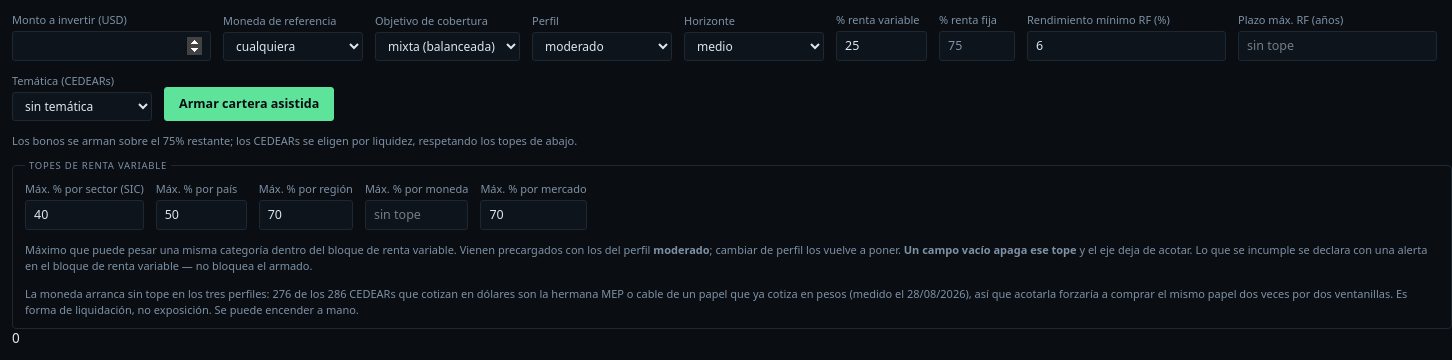
los topes de renta variable › cambiar de perfil los vuelve a poner, igual que con el % de renta variable
The width and height of the screenshot is (1452, 360).
Select "conservador" in the dropdown labelled "Perfil" at (602, 47), box [532, 32, 672, 61]
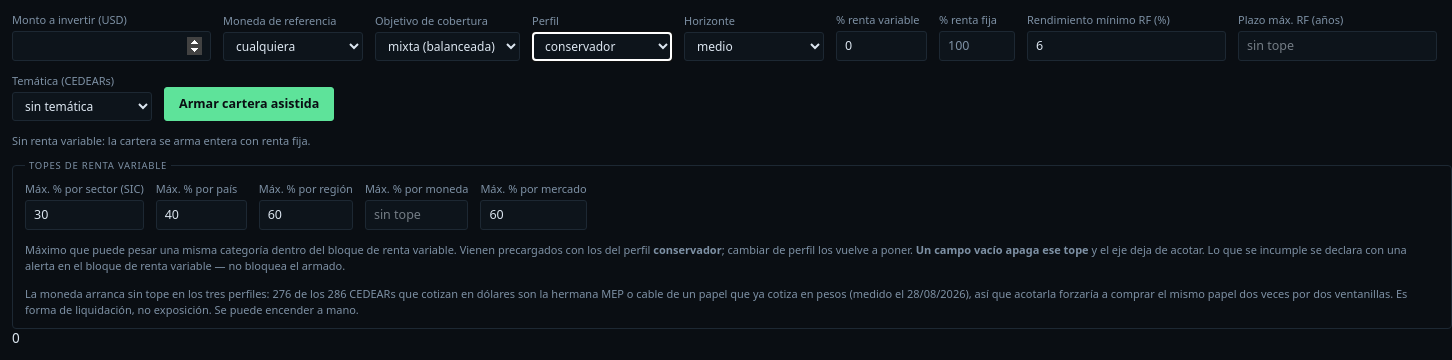
Expected: the number field labelled "Máx. % por sector (SIC)" holds "30", [25, 200, 144, 230]
Select "agresivo" in the dropdown labelled "Perfil" at (602, 47), box [532, 32, 672, 61]
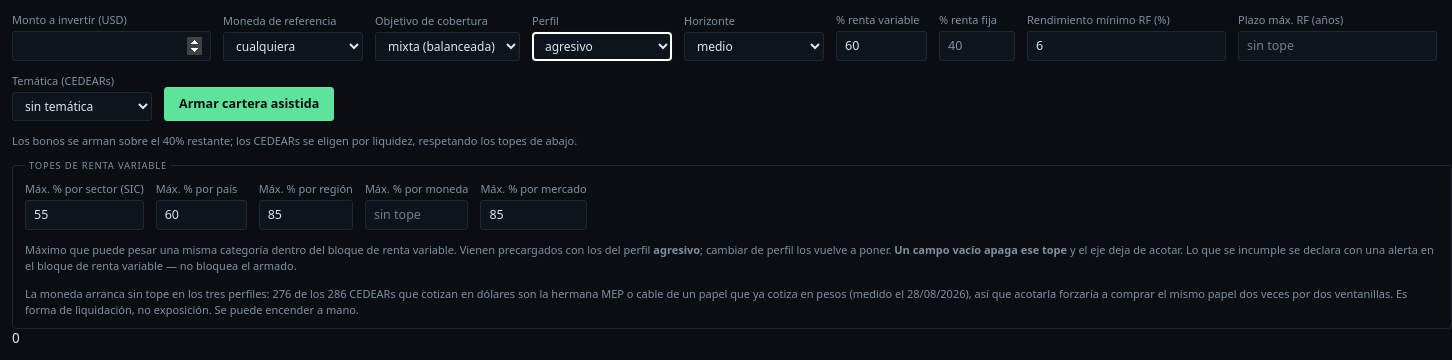
Expected: the number field labelled "Máx. % por sector (SIC)" holds "55", [25, 200, 144, 230]
